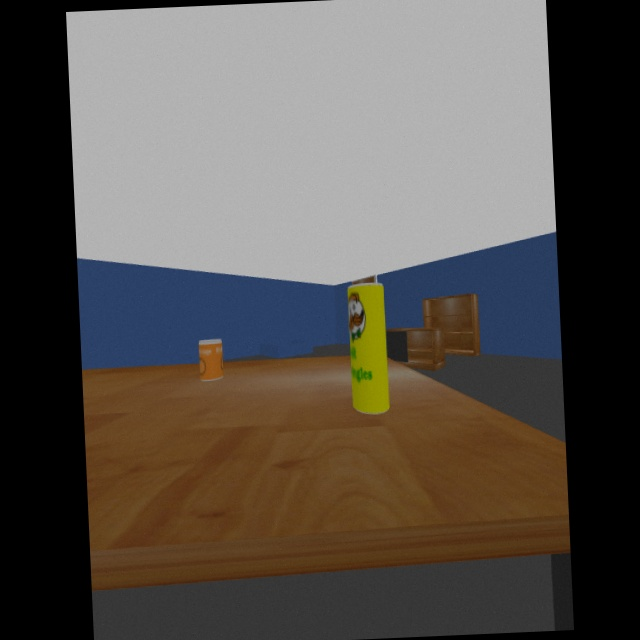chipsdose_gelb: (347, 282, 389, 415)
